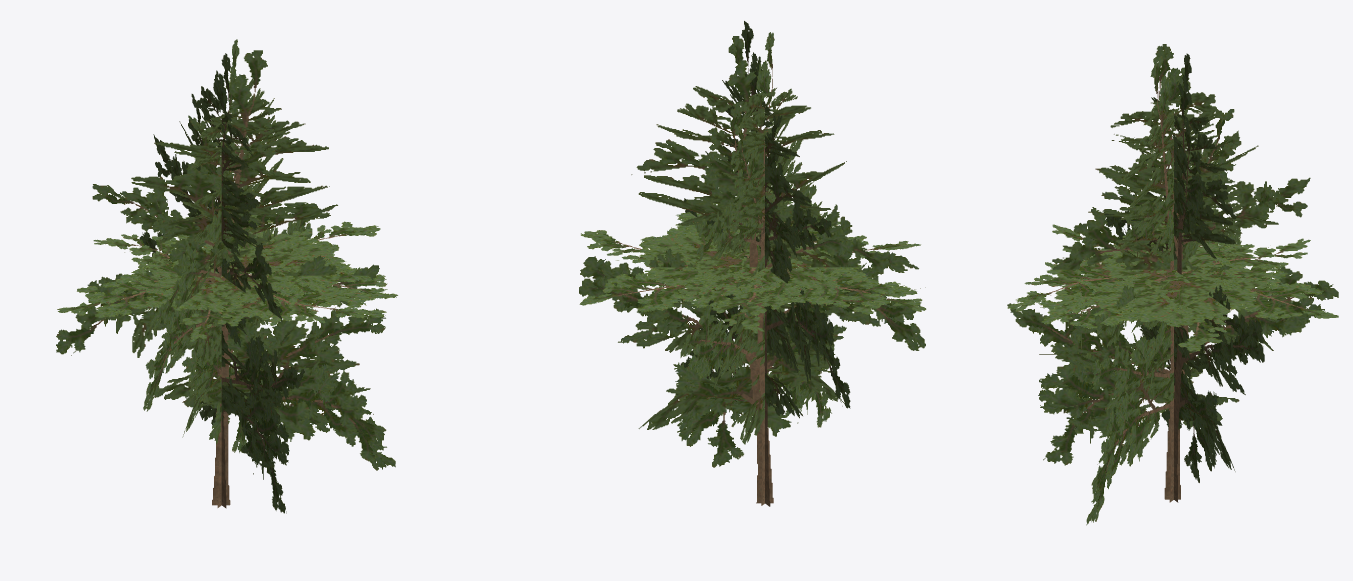
3 renders of one model, left to right at view 1: azimuth 30°, elevation 25°; view 2: azimuth 150°, elevation 25°; view 3: azimuth 270°, elevation 25°, orthographic. The views are drawn at different scales.
Parts seen in each view (by area): view 1: Pine_small_3_Billboard_LOD3_Pine_small_3_Billboard_Mat_0; view 2: Pine_small_3_Billboard_LOD3_Pine_small_3_Billboard_Mat_0; view 3: Pine_small_3_Billboard_LOD3_Pine_small_3_Billboard_Mat_0.
Boxes of the visible parts, <box> form: Pine_small_3_Billboard_LOD3_Pine_small_3_Billboard_Mat_0: <box>56,39,397,513</box>; Pine_small_3_Billboard_LOD3_Pine_small_3_Billboard_Mat_0: <box>579,21,926,506</box>; Pine_small_3_Billboard_LOD3_Pine_small_3_Billboard_Mat_0: <box>1007,44,1338,525</box>.
Size of the model in its own units: 3.5 by 4.6 by 3.05.
